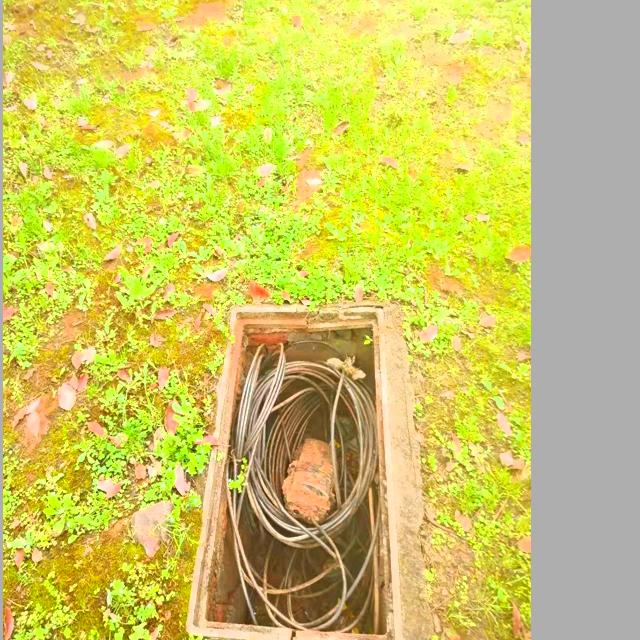lose: (185, 303, 403, 640)
